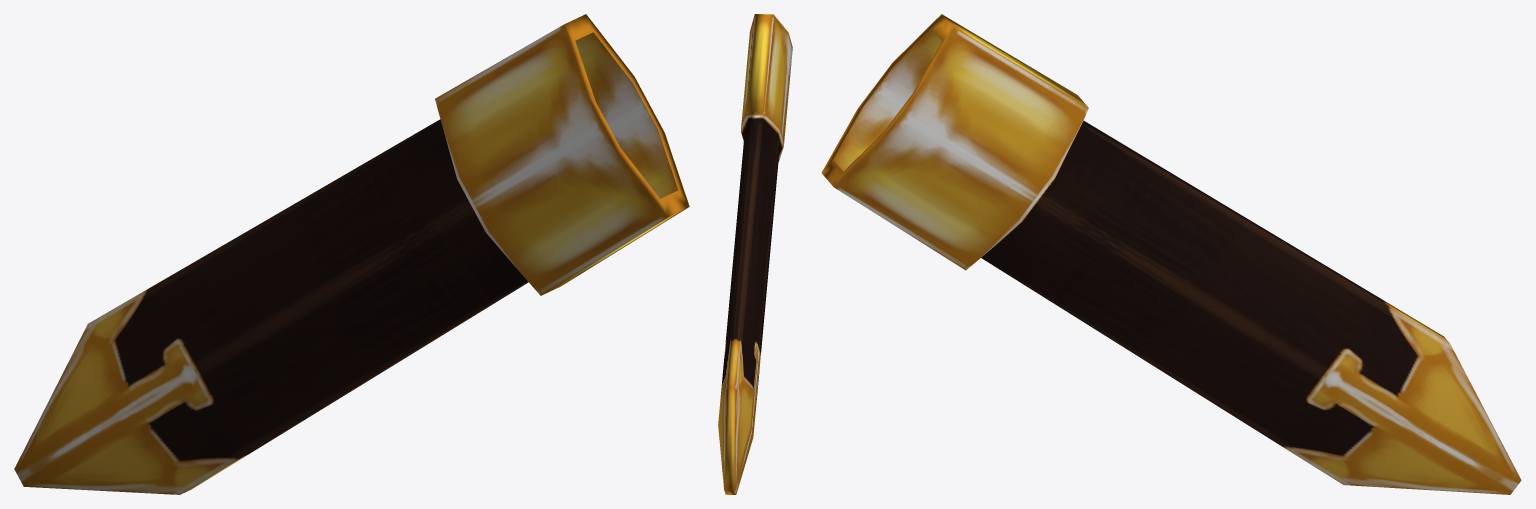
File: SheathSwB.fbx
The picture shows the model from 3 angles, left to right: view 1: azimuth 30°, elevation 25°; view 2: azimuth 150°, elevation 25°; view 3: azimuth 270°, elevation 25°; orthographic projection. The views are drawn at different scales.
Visible parts, largest first — view 1: SheathSwB; view 2: SheathSwB; view 3: SheathSwB.
Boxes of the visible parts, x1,y1,x2,y2 form: SheathSwB: (14,14,689,494); SheathSwB: (718,14,792,494); SheathSwB: (821,14,1521,494).
Bounding box in the file's own units: 5.13 × 10.03 × 11.
